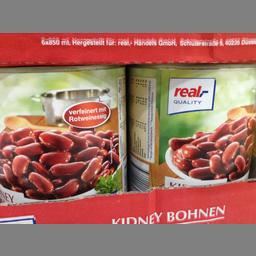beans: (128, 64, 254, 199), (0, 66, 123, 200)
